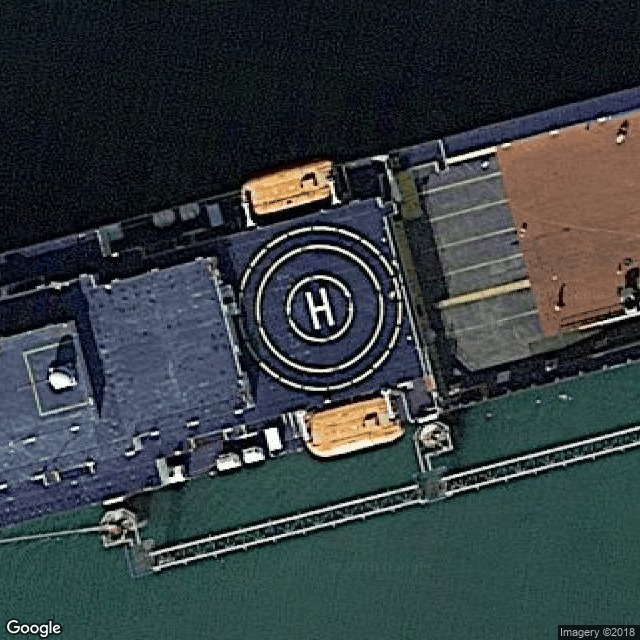heliport: (300, 288, 338, 331)
